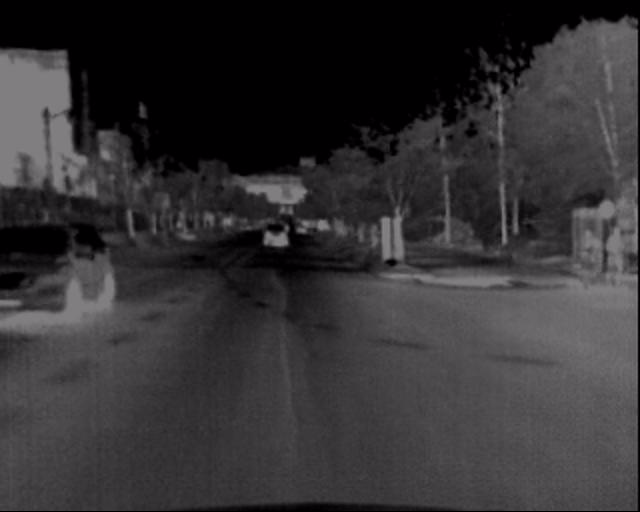person: (606, 226, 635, 288), (582, 217, 609, 278), (581, 232, 605, 288)
